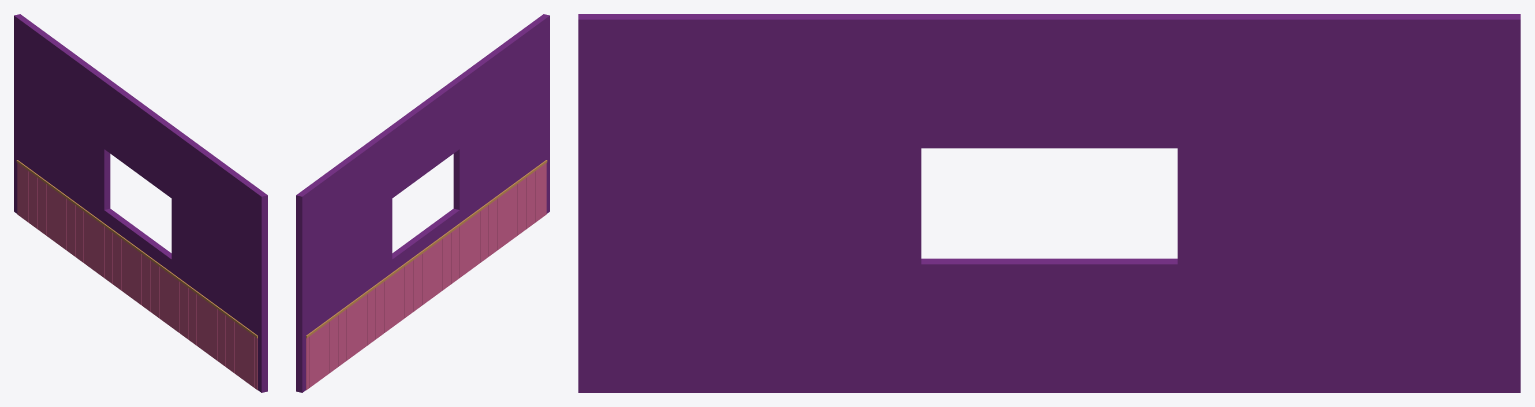
The picture shows the model from 3 angles, left to right: view 1: azimuth 30°, elevation 25°; view 2: azimuth 150°, elevation 25°; view 3: azimuth 270°, elevation 25°; orthographic projection. The views are drawn at different scales.
Visible parts, largest first — view 1: wall_r_a, wall_r_b, wall_r_head, wall_r_sill, right_rail_0; view 2: wall_r_b, wall_r_a, wall_r_head, wall_r_sill, right_rail_0; view 3: wall_r_a, wall_r_b, wall_r_head, wall_r_sill.
Part boxes in pixels (x1,y1,x2,y2): wall_r_a: (171,129,267,392); wall_r_b: (14,14,110,222); wall_r_head: (104,80,177,197); wall_r_sill: (104,208,171,272); right_rail_0: (16,160,257,338); wall_r_b: (296,129,392,392); wall_r_a: (453,14,549,222); wall_r_head: (386,80,459,197); wall_r_sill: (392,208,459,272); right_rail_0: (306,160,547,338); wall_r_a: (578,14,921,392); wall_r_b: (1177,14,1520,392); wall_r_head: (921,14,1177,148); wall_r_sill: (921,258,1177,392).
Size of the model in its own units: 0.175 by 4.5 by 10.3.
